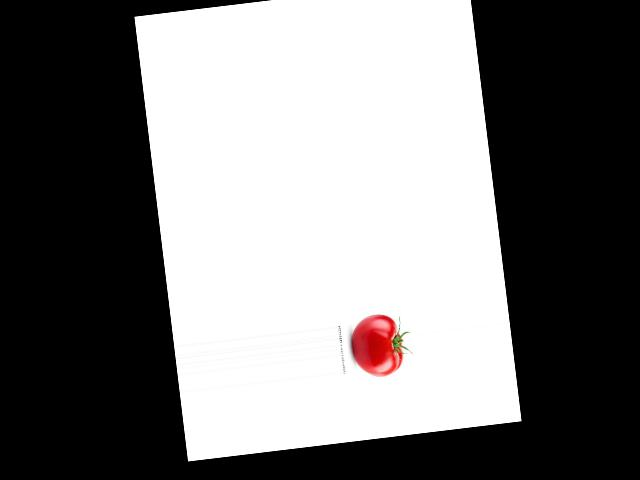tomato: (349, 311, 404, 379)
